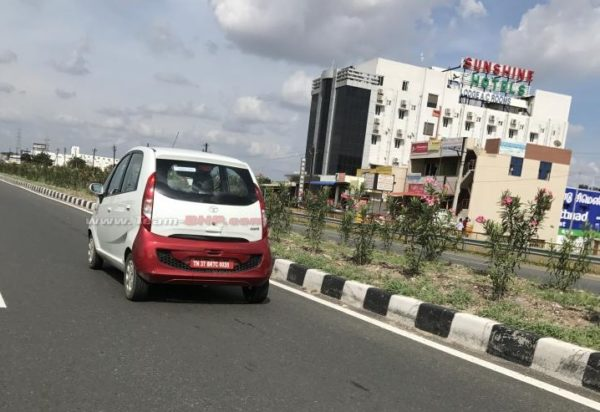Nano: (81, 144, 274, 304)
